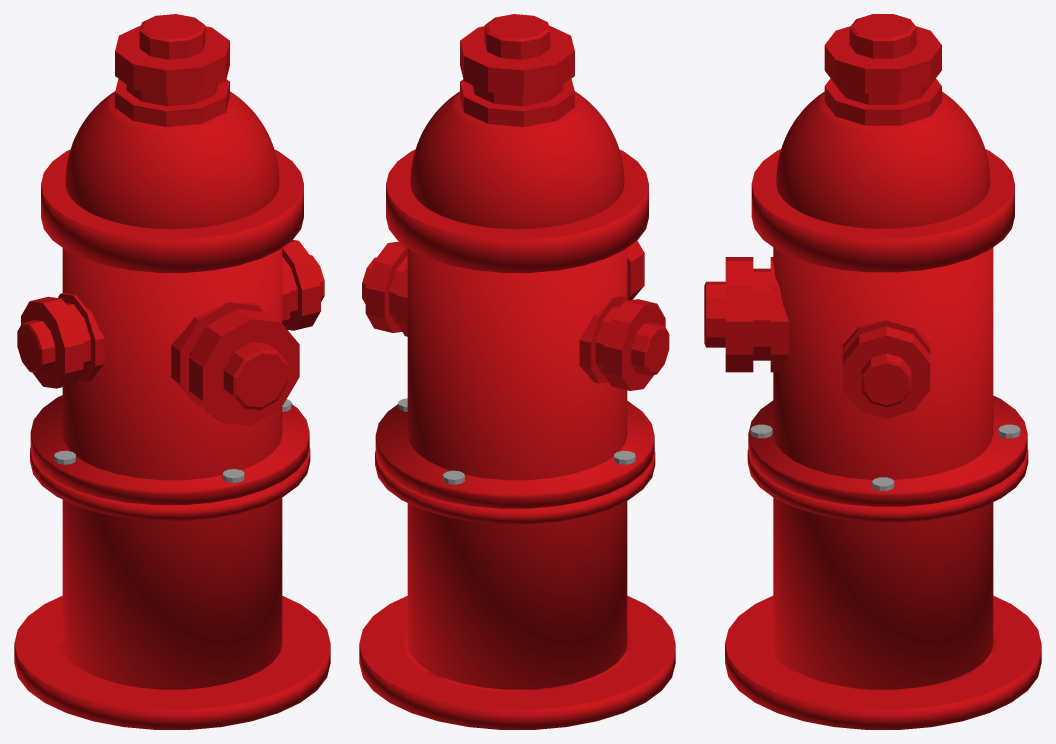
3 renders of one model, left to right at view 1: azimuth 30°, elevation 25°; view 2: azimuth 150°, elevation 25°; view 3: azimuth 270°, elevation 25°, orthographic.
Visible parts, largest first — view 1: Circle; view 2: Circle; view 3: Circle.
Boxes of the visible parts, bbox=[...] form: Circle: bbox=[14, 14, 330, 729]; Circle: bbox=[359, 14, 675, 729]; Circle: bbox=[704, 14, 1041, 729].
Bounding box in the file's own units: 0.468 × 1 × 0.4792.
2 materials, 1 textured.
